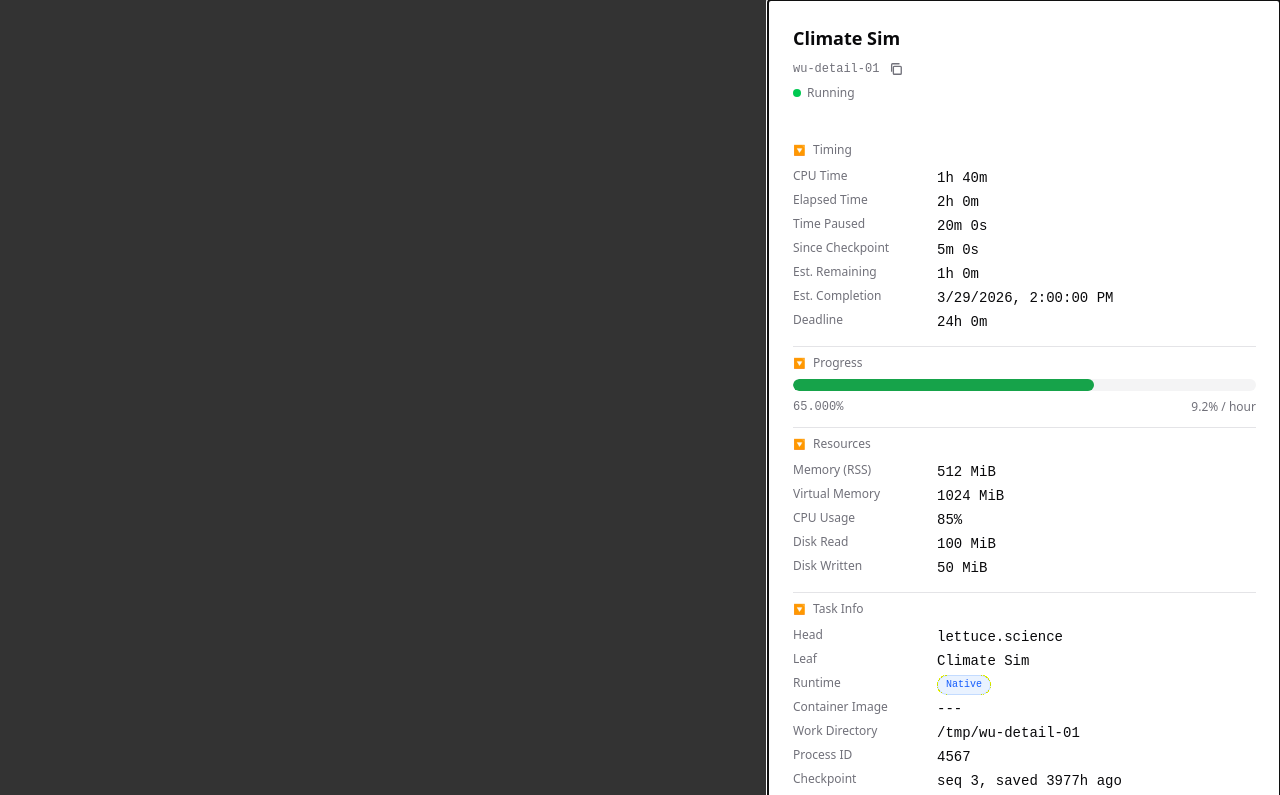
TaskDetailPanel › re-expands a collapsed section when clicked again
Step 1. Click the button "▶ Timing" → (832, 150), box [793,134,1256,166]
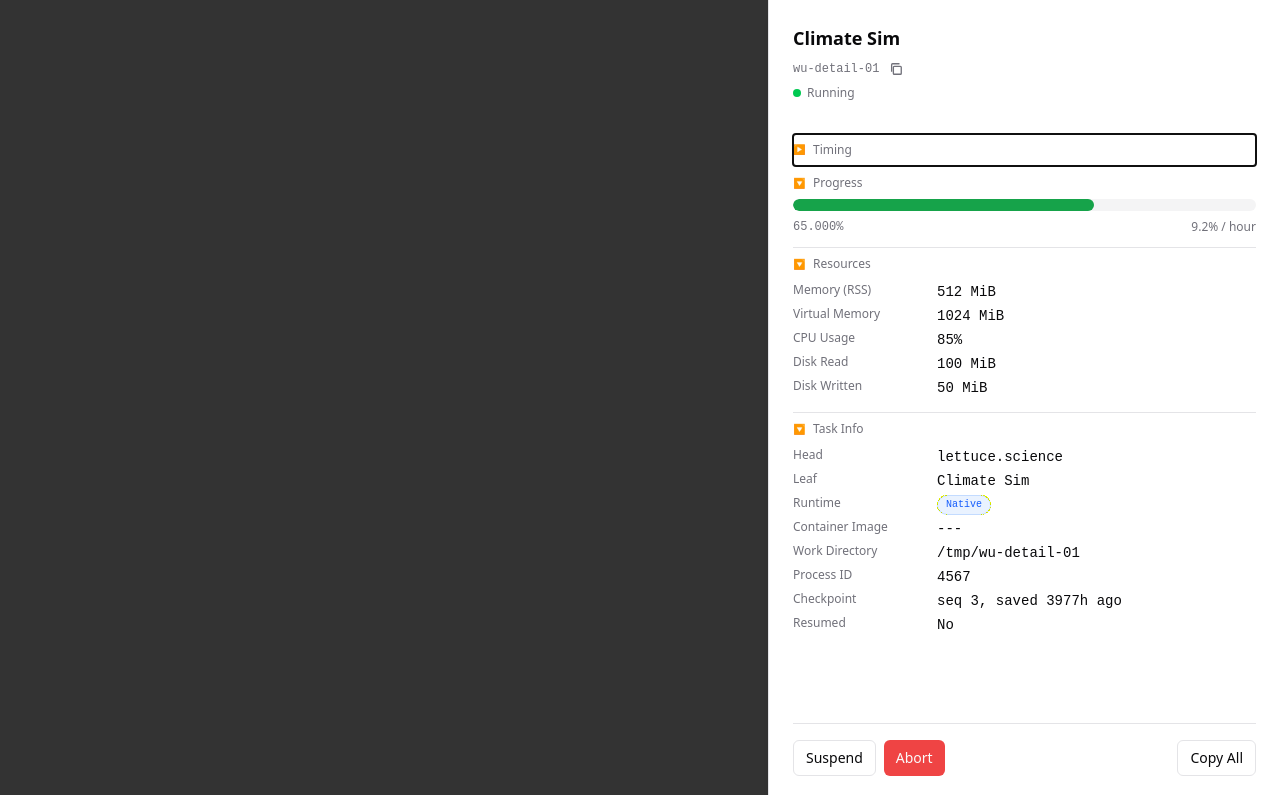
Expected: the text "CPU Time" is gone
Step 2. Click the button "▶ Timing" → (832, 150), box [793,134,1256,166]
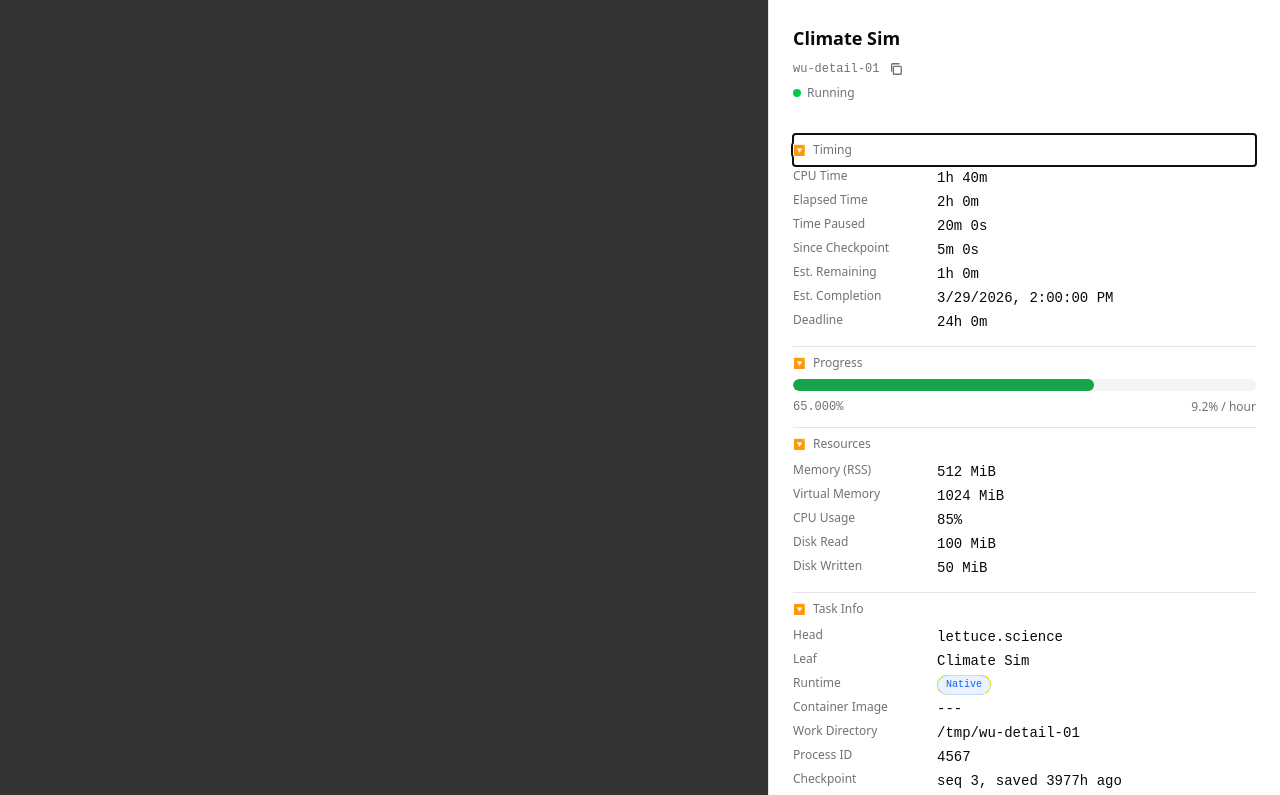
Expected: the text "CPU Time" is shown, [793,167,848,184]
